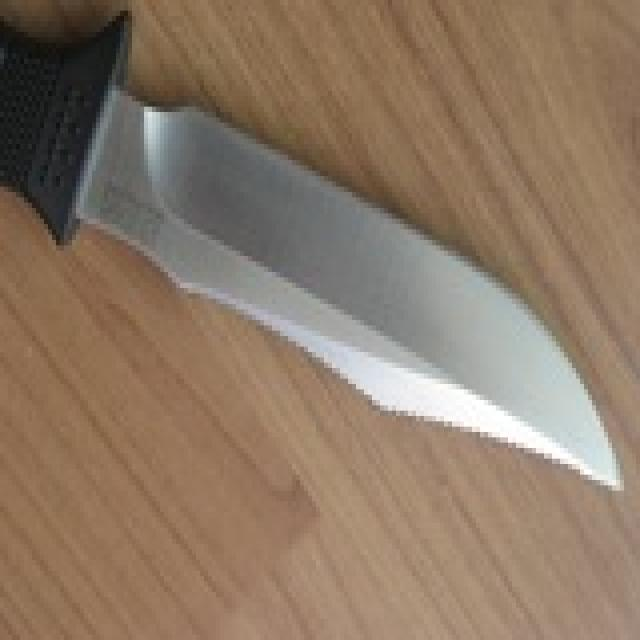Knife: (21, 71, 627, 492)
